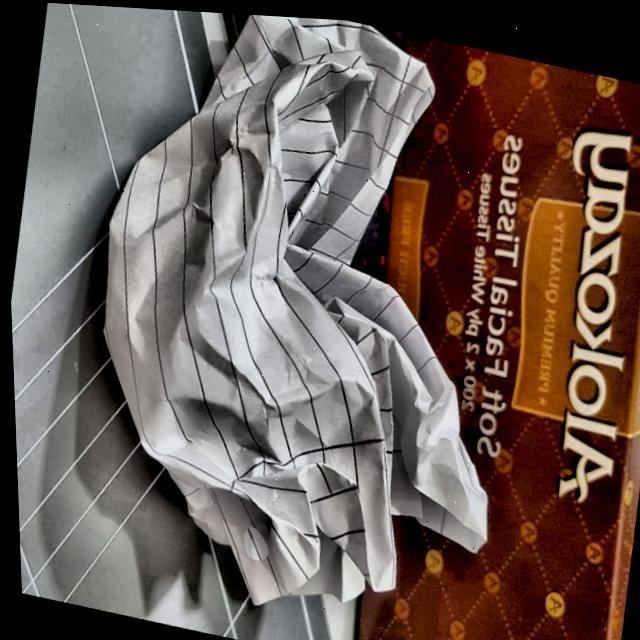paper: (28, 1, 576, 640)
